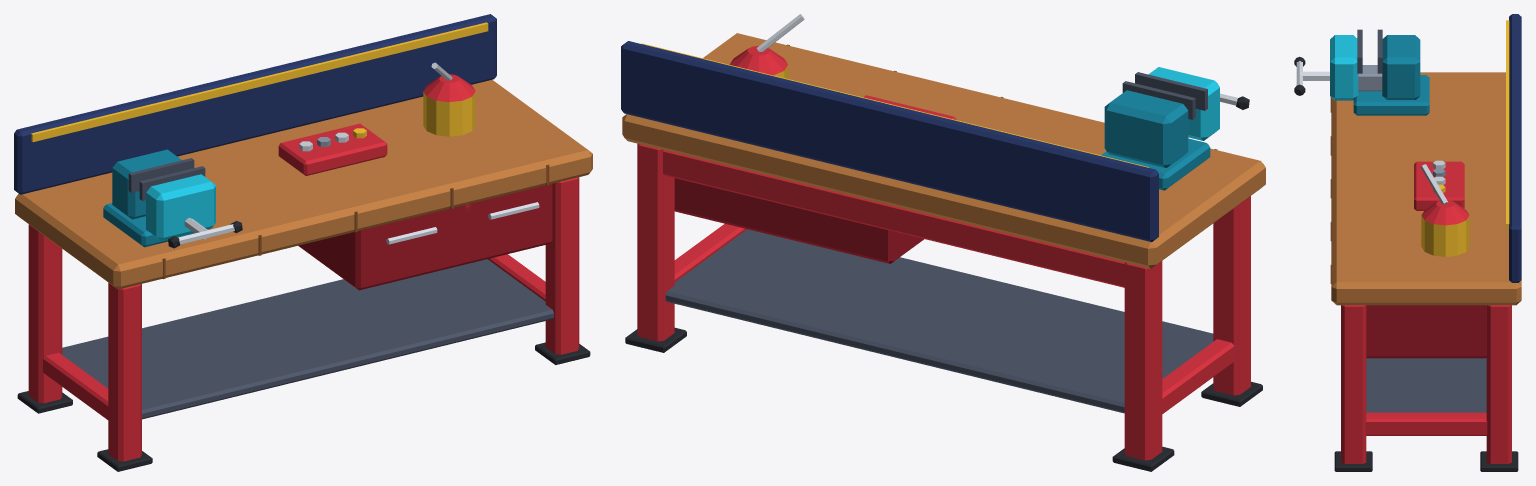
Rendered from Workbench.fbx.
3 renders of one model, left to right at view 1: azimuth 30°, elevation 25°; view 2: azimuth 150°, elevation 25°; view 3: azimuth 270°, elevation 25°, orthographic. The views are drawn at different scales.
Parts seen in each view (by area): view 1: Workbench; view 2: Workbench; view 3: Workbench.
Boxes of the visible parts, x1,y1,x2,y2 form: Workbench: [14, 14, 592, 471]; Workbench: [621, 14, 1265, 471]; Workbench: [1294, 14, 1521, 471].
Bounding box in the file's own units: 8 × 4.54 × 3.59.
Materials: 1 (1 with a texture image).
